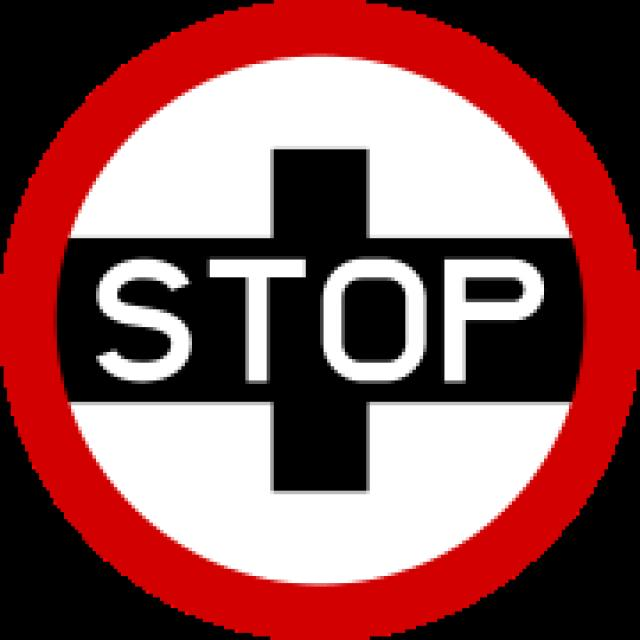Traffic sign: (30, 26, 608, 622)
